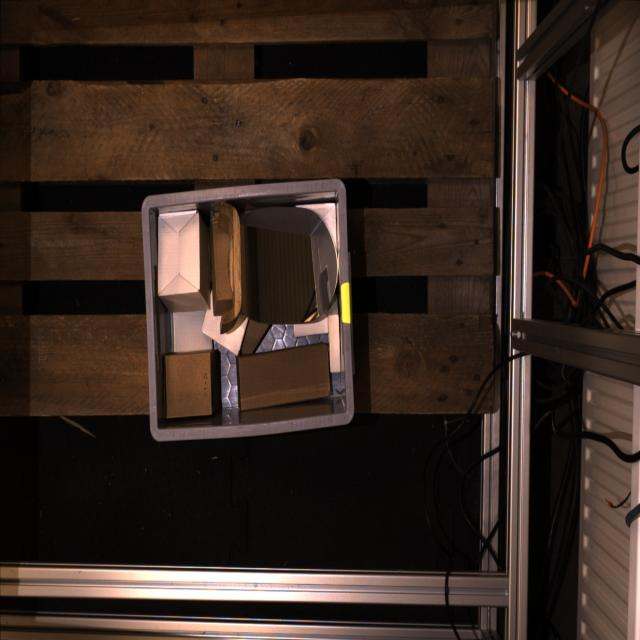CardboardBox: (236, 342, 331, 410), (158, 212, 211, 314), (165, 349, 219, 418), (202, 290, 248, 355), (210, 211, 233, 315), (297, 203, 338, 251), (171, 311, 212, 351), (239, 318, 271, 354), (328, 295, 341, 373), (293, 317, 329, 337)
Mirror: (219, 203, 337, 333)
